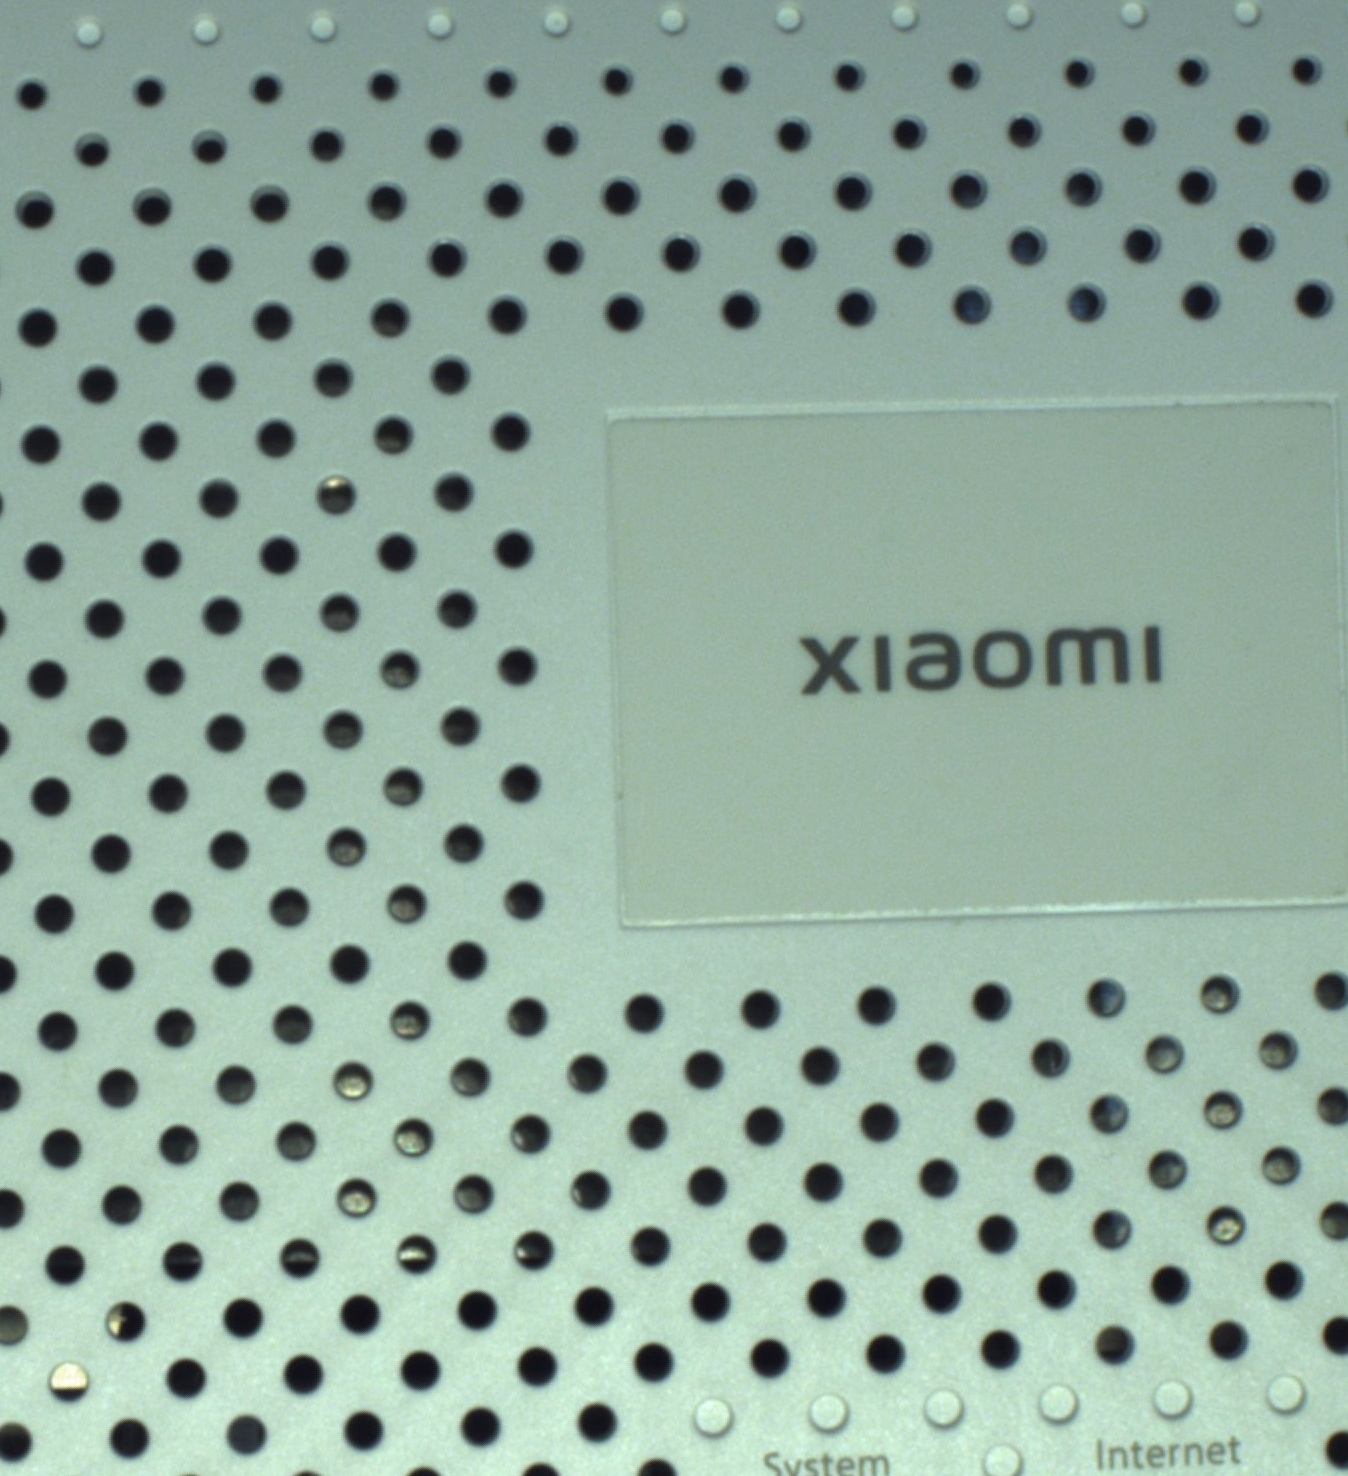MAB_OldUnicom: (786, 617, 1186, 706)
